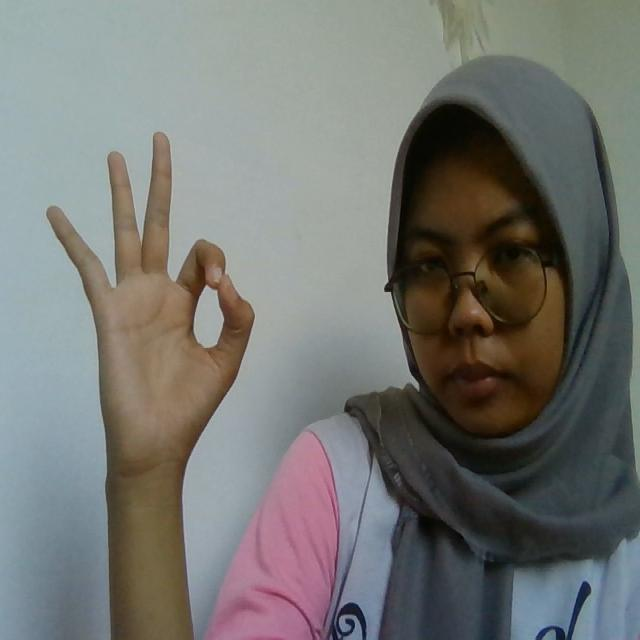F: (45, 128, 257, 468)
